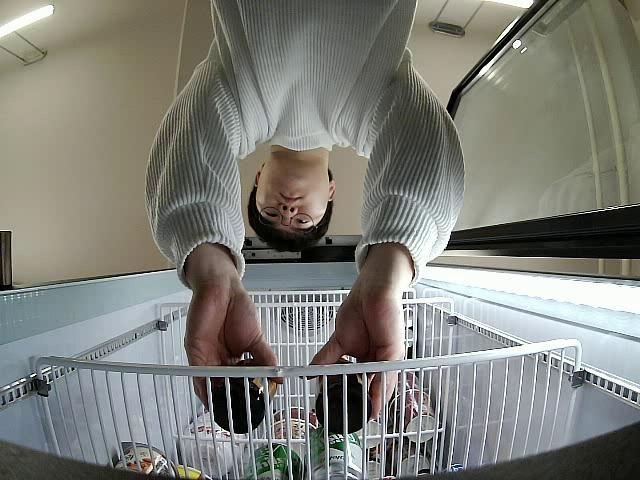17_vita500: (206, 358, 278, 434), (312, 358, 373, 433)
